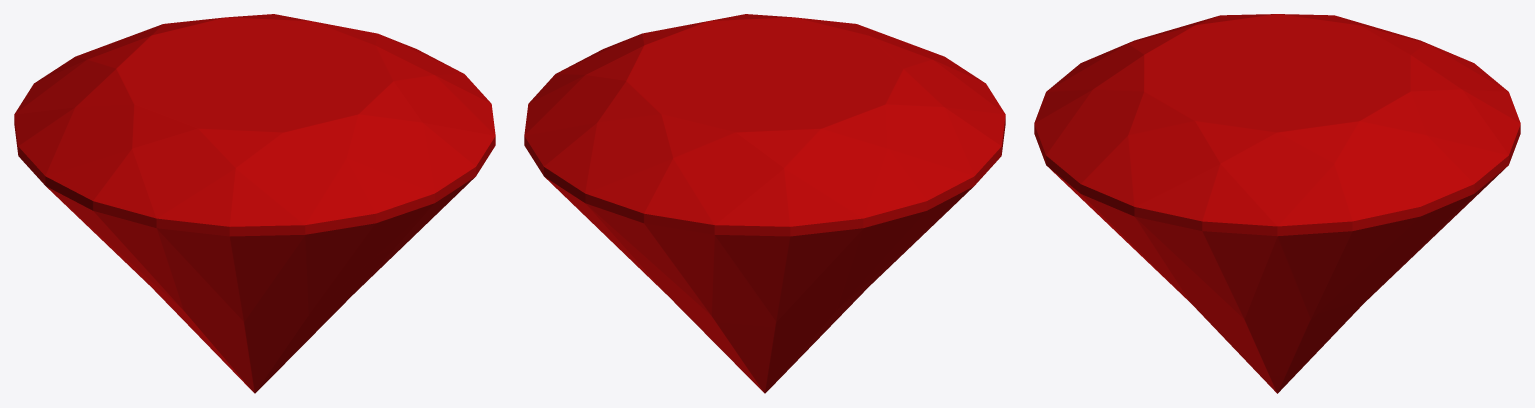
The model's file is jewel.fbx.
3 renders of one model, left to right at view 1: azimuth 30°, elevation 25°; view 2: azimuth 150°, elevation 25°; view 3: azimuth 270°, elevation 25°, orthographic.
Parts seen in each view (by area): view 1: geo_diamond; view 2: geo_diamond; view 3: geo_diamond.
Boxes of the visible parts, x1,y1,x2,y2 form: geo_diamond: [14, 14, 495, 393]; geo_diamond: [524, 14, 1005, 393]; geo_diamond: [1034, 14, 1520, 393].
Bounding box in the file's own units: 48.89 × 35.56 × 48.89.
